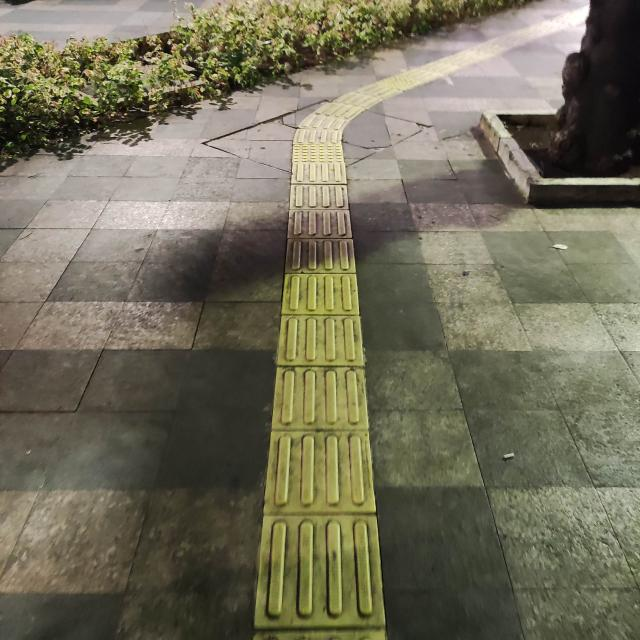lurus: (254, 146, 392, 640)
